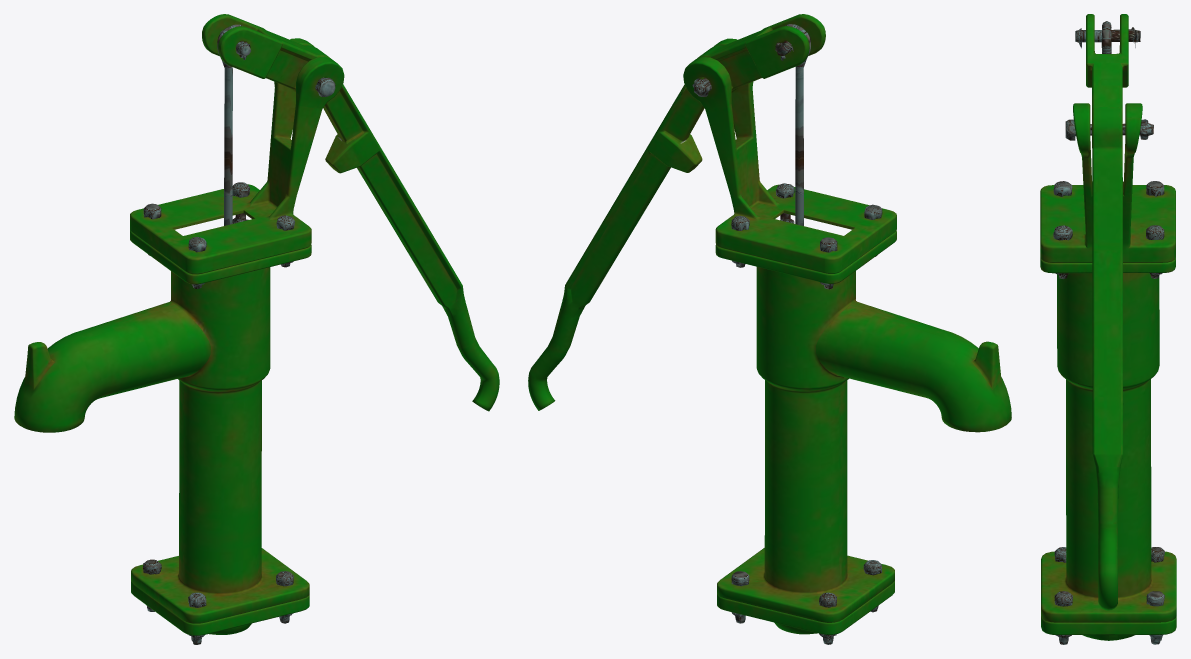
File: tubewell.glb
3 renders of one model, left to right at view 1: azimuth 30°, elevation 25°; view 2: azimuth 150°, elevation 25°; view 3: azimuth 270°, elevation 25°, orthographic. The views are drawn at different scales.
Visible parts, largest first — view 1: tubewell; view 2: tubewell; view 3: tubewell.
Boxes of the visible parts, x1=… form: tubewell: x1=14, y1=14, x2=499, y2=644; tubewell: x1=528, y1=14, x2=1011, y2=644; tubewell: x1=1040, y1=14, x2=1176, y2=644.
Bounding box in the file's own units: 0.9708 × 1.16 × 0.2332.
2 materials, 2 textured.
